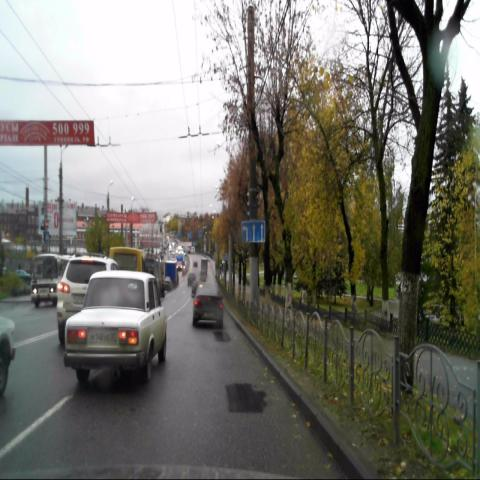5_15_1: (242, 221, 265, 242)
